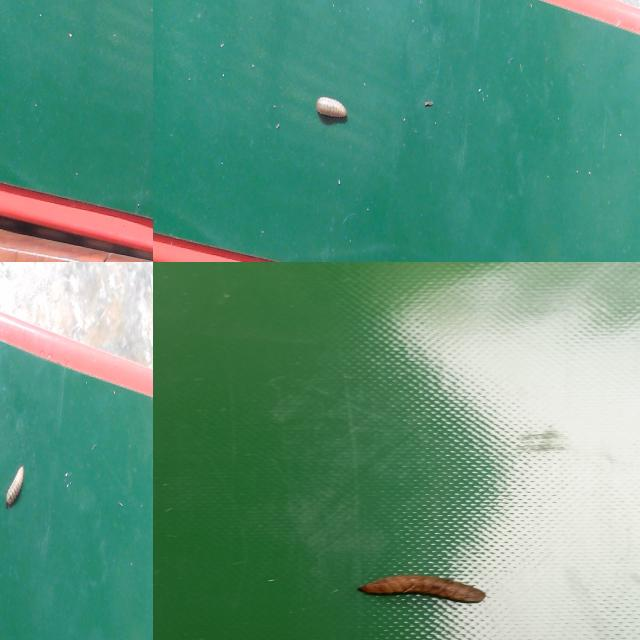Maggot: (357, 574, 487, 606), (4, 466, 28, 507), (316, 95, 348, 125)
